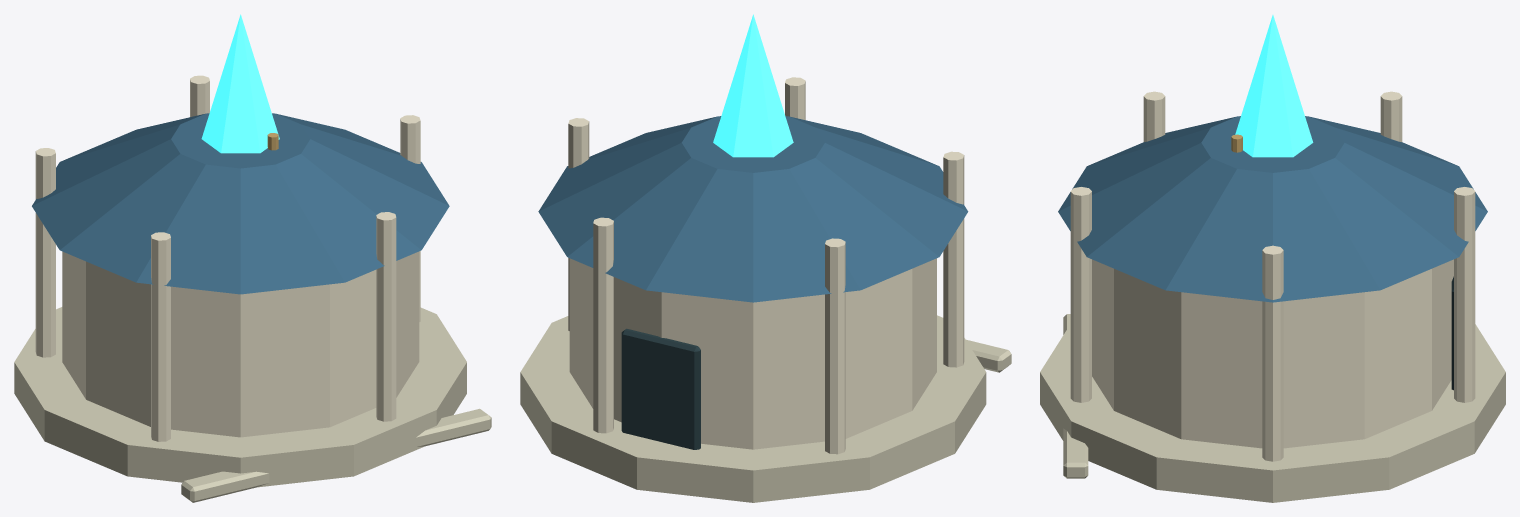
Rendered from level_12.glb.
The picture shows the model from 3 angles, left to right: view 1: azimuth 30°, elevation 25°; view 2: azimuth 150°, elevation 25°; view 3: azimuth 270°, elevation 25°; orthographic projection. The views are drawn at different scales.
Parts seen in each view (by area): view 1: mage_guild — level 12; view 2: mage_guild — level 12; view 3: mage_guild — level 12.
Part boxes in pixels (x1,y1,x2,y2): mage_guild — level 12: (14, 14, 491, 502); mage_guild — level 12: (520, 14, 1011, 502); mage_guild — level 12: (1040, 15, 1505, 502).
Size of the model in its own units: 5.2 by 4.81 by 5.2.
